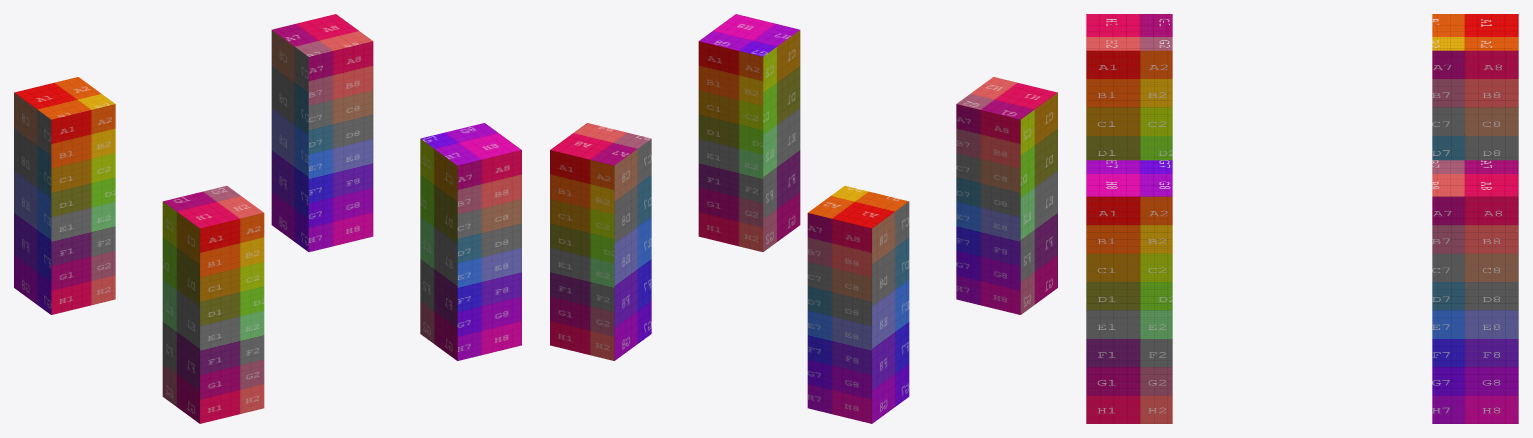
File: 4-ways.fbx
3 views of the same model, side by side, from view 1: azimuth 30°, elevation 25°; view 2: azimuth 150°, elevation 25°; view 3: azimuth 270°, elevation 25° (orthographic). The views are drawn at different scales.
Parts seen in each view (by area): view 1: 4-way; view 2: 4-way; view 3: 4-way.
Part boxes in pixels (bbox=[...]): 4-way: bbox=[14, 14, 521, 423]; 4-way: bbox=[550, 14, 1057, 423]; 4-way: bbox=[1086, 14, 1518, 423].
Bounding box in the file's own units: 500 × 290 × 500.
